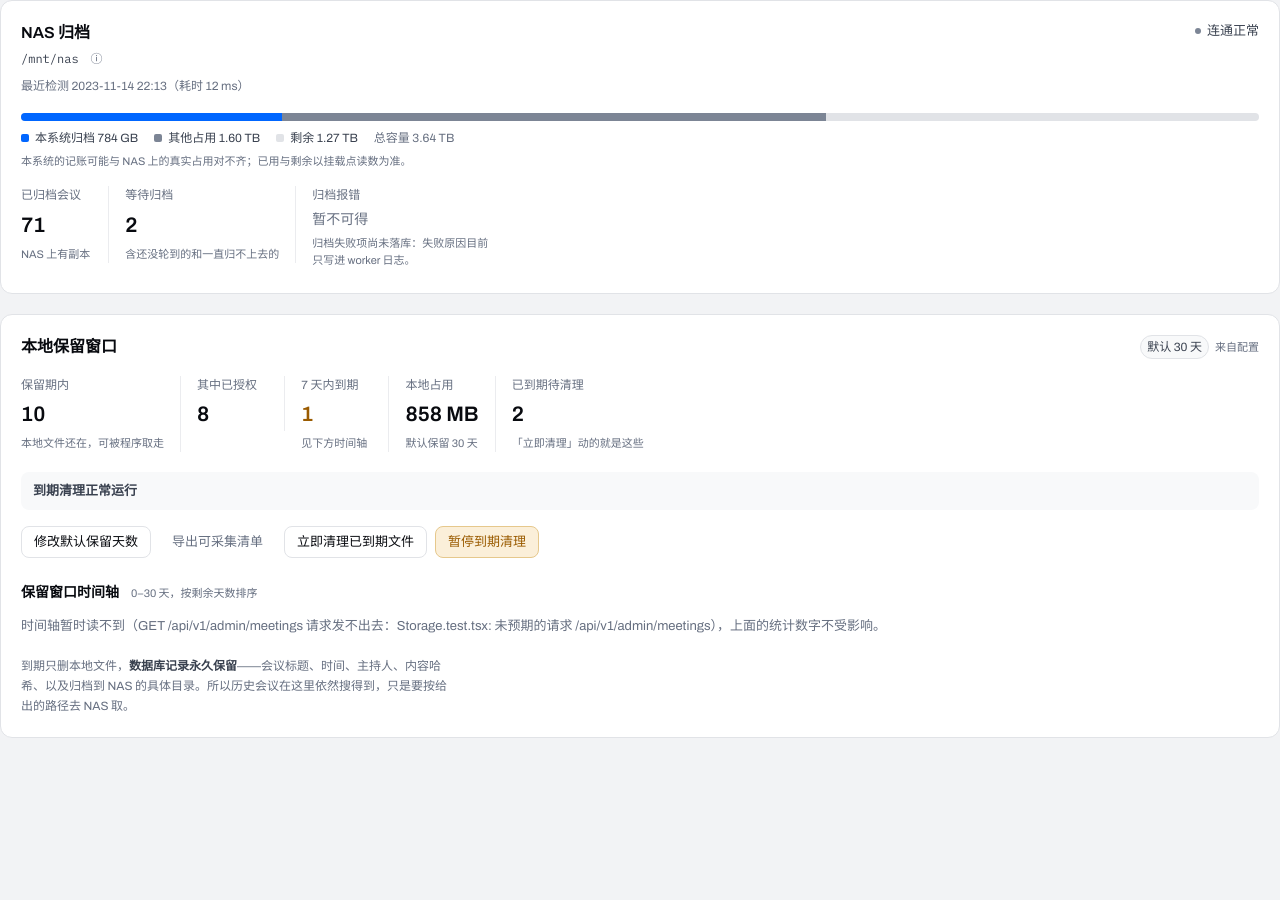
it: 暂停到期清理（系统状态横幅链到这一页的那个动作） › 后端说没暂停成功，界面就显示没暂停——不相信自己发出去的那个值
Expected: the heading "NAS 归档" is shown, [21,24,90,41]
Click the button "暂停到期清理".
click(487, 542)  # box [435,526,539,558]
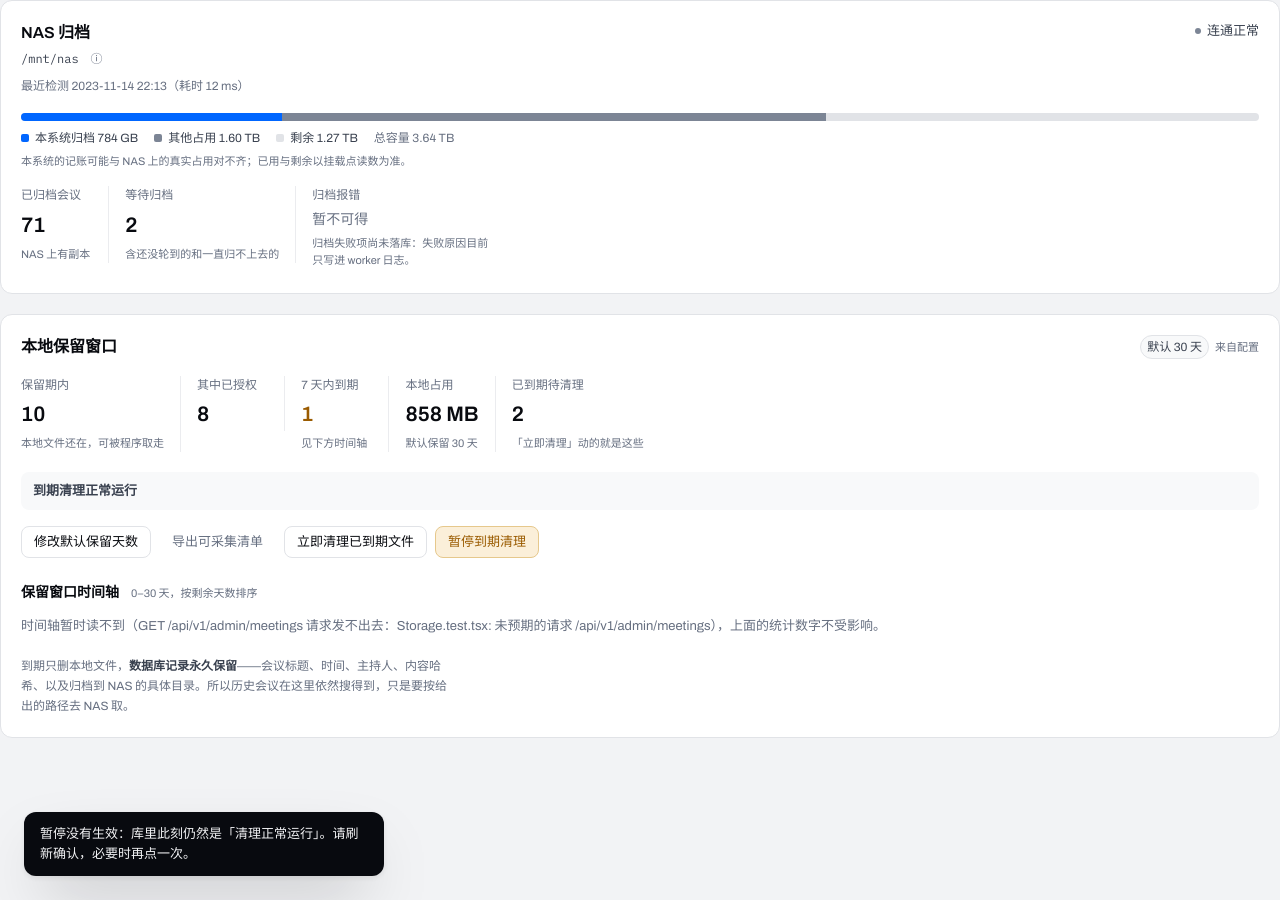
Expected: the element with test id "cleanup-state" shows "正常运行", [33,484,137,498]
Now the text with test id "storage-toast" reads "暂停没有生效：库里此刻仍然是「清理正常运行」。请刷新确认，必要时再点一次。", box [40,827,358,861]
